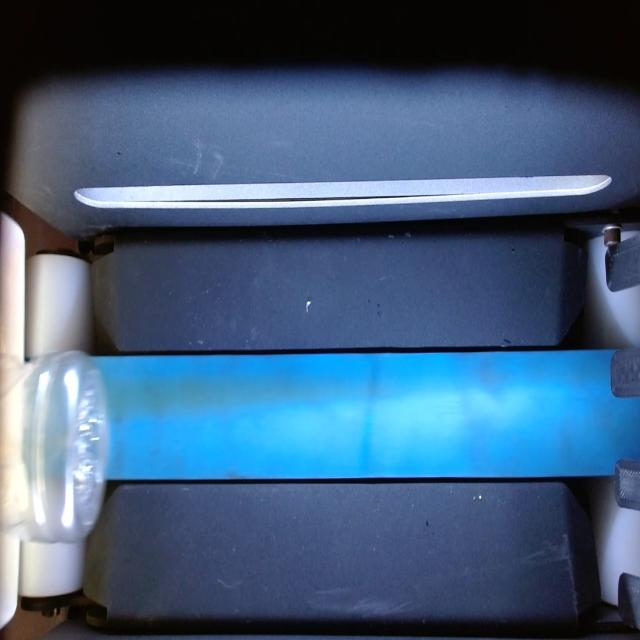bottom: (0, 351, 108, 542)
